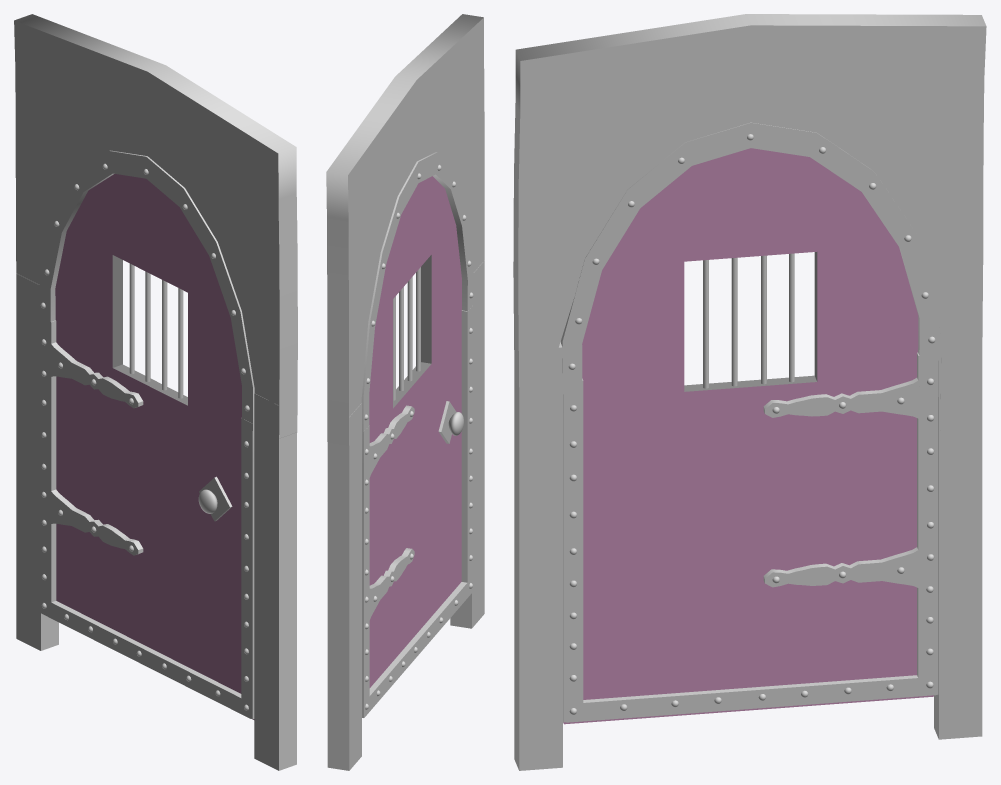
Rendered from door.FBX.
3 renders of one model, left to right at view 1: azimuth 30°, elevation 25°; view 2: azimuth 150°, elevation 25°; view 3: azimuth 270°, elevation 25°, orthographic. The views are drawn at different scales.
Visible parts, largest first — view 1: Arc002, Box221, Box219, Box220, Box208, Box207, Box205, Box206, Box213, Box214, Cylinder043, Cylinder046 (+3 smaller); view 2: Arc002, Box221, Box220, Box208, Box219, Box206, Box205, Box207, Box214, Box213, Cylinder045, Cylinder046 (+4 smaller); view 3: Arc002, Box221, Box219, Box222, Box220, Box212, Box211, Box209, Box215, Box216, Cylinder045.
Boxes of the visible parts, box(x1,y1,x2,y2) form: Arc002: box(55, 174, 254, 719); Box221: box(14, 14, 297, 438); Box219: box(254, 393, 296, 770); Box220: box(16, 273, 58, 650); Box208: box(39, 150, 254, 461); Box207: box(40, 317, 56, 612); Box205: box(41, 597, 250, 718); Box206: box(241, 418, 254, 719); Box213: box(49, 489, 143, 555); Box214: box(49, 342, 143, 408); Cylinder043: box(129, 263, 134, 373); Cylinder046: box(178, 288, 183, 398); Arc002: box(369, 176, 461, 687); Box221: box(326, 14, 484, 446); Box220: box(327, 403, 361, 770); Box208: box(361, 152, 473, 466); Box219: box(450, 260, 484, 628); Box206: box(461, 305, 473, 591); Box205: box(364, 577, 472, 717); Box207: box(362, 425, 369, 717); Box214: box(369, 405, 414, 478); Box213: box(369, 548, 414, 621); Cylinder045: box(407, 277, 412, 381); Cylinder046: box(416, 267, 420, 371); Arc002: box(563, 148, 933, 724); Box221: box(513, 14, 986, 458); Box219: box(514, 342, 562, 770); Box222: box(561, 122, 939, 426); Box220: box(934, 326, 982, 739); Box212: box(566, 675, 935, 722); Box211: box(917, 352, 938, 696); Box209: box(563, 378, 583, 722); Box215: box(763, 547, 918, 587); Box216: box(763, 378, 918, 418); Cylinder045: box(731, 257, 737, 386).
Bounding box in the file's own units: 0.0103 × 0.0756 × 0.0445.
